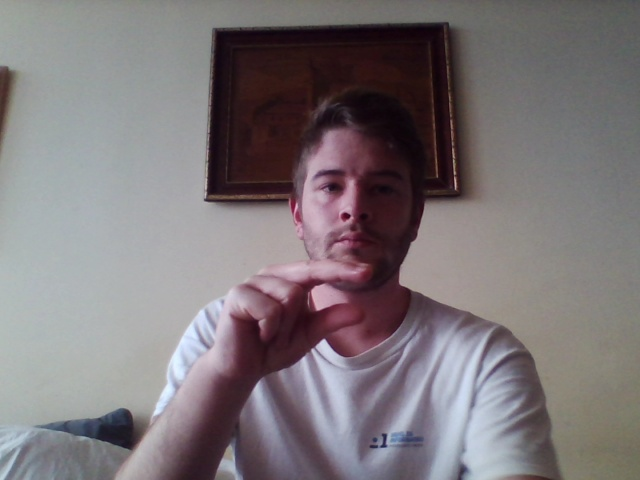ne: (211, 258, 380, 377)
